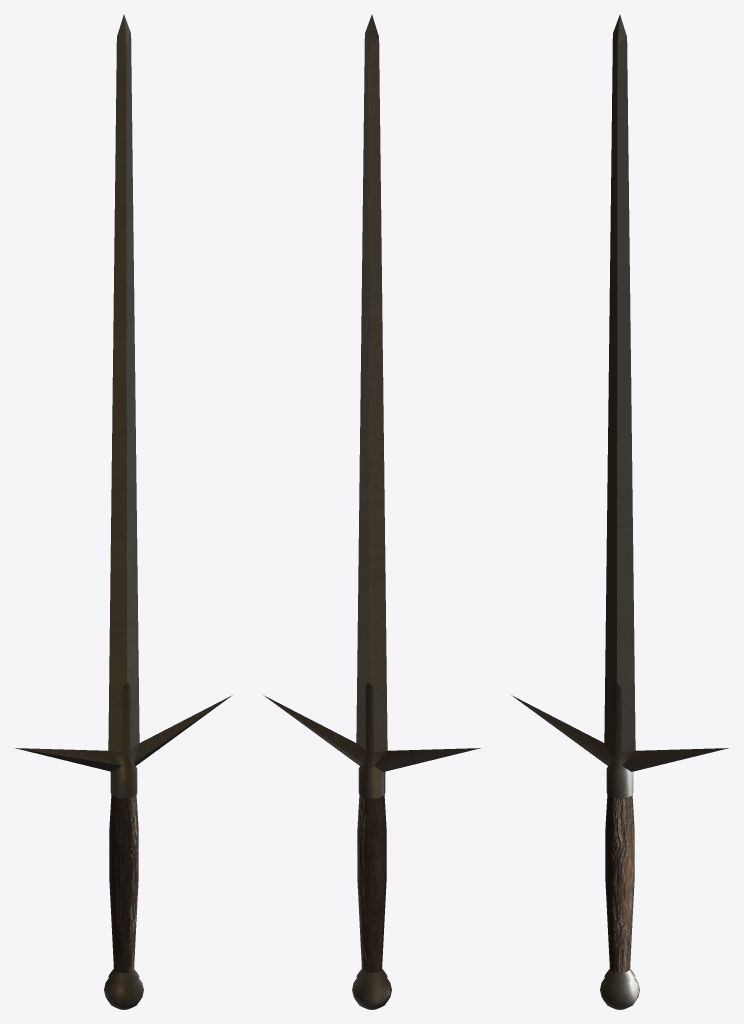
Rendered from Claymore.fbx.
3 views of the same model, side by side, from view 1: azimuth 30°, elevation 25°; view 2: azimuth 150°, elevation 25°; view 3: azimuth 330°, elevation 25° (orthographic).
Parts seen in each view (by area): view 1: Claymore; view 2: Claymore; view 3: Claymore.
Boxes of the visible parts, x1,y1,x2,y2 form: Claymore: (15, 14, 232, 1009); Claymore: (263, 14, 480, 1009); Claymore: (511, 14, 728, 1009).
Size of the model in its own units: 31.18 by 135 by 4.93.
